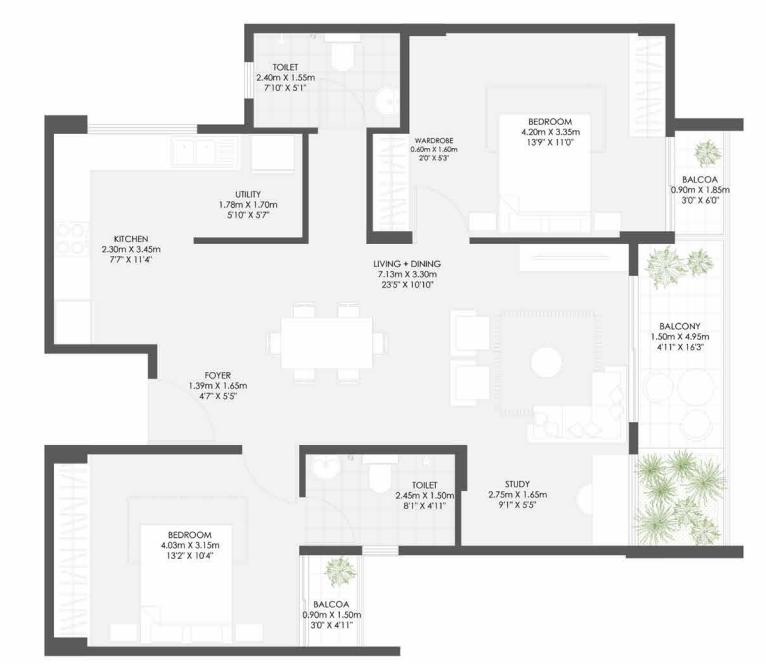Balcony: (638, 244, 728, 548)
Bed: (138, 523, 229, 643), (500, 114, 590, 234)
Bedroom: (410, 36, 669, 233), (87, 455, 299, 642)
Dining Room: (255, 249, 426, 445)
Dining table: (262, 306, 388, 386)
Foyer: (155, 346, 262, 452)
Kitchen: (48, 129, 191, 344)
Living Room: (428, 239, 635, 445)
Sofa: (525, 403, 629, 444), (450, 310, 493, 405), (589, 365, 631, 441), (529, 341, 561, 379)
Wardrobe: (50, 462, 90, 636), (627, 32, 670, 140), (375, 134, 410, 235)
balcoa: (670, 132, 727, 239), (302, 558, 365, 645)
commode: (371, 461, 391, 493), (332, 42, 354, 71)
door: (150, 381, 217, 445), (243, 457, 297, 511), (414, 179, 466, 233), (301, 497, 358, 545), (319, 81, 370, 132)
fridge: (54, 304, 93, 341)
kitchen-slab: (48, 129, 92, 301), (50, 134, 241, 172)
sink: (174, 138, 238, 165), (307, 458, 344, 481), (376, 87, 401, 116)
stove: (54, 222, 91, 257)
study: (466, 447, 636, 551)
toilet: (298, 457, 458, 548), (251, 33, 402, 129)
tv: (524, 243, 628, 272)
utility: (194, 130, 303, 238)
washing-machine: (249, 135, 295, 175)
